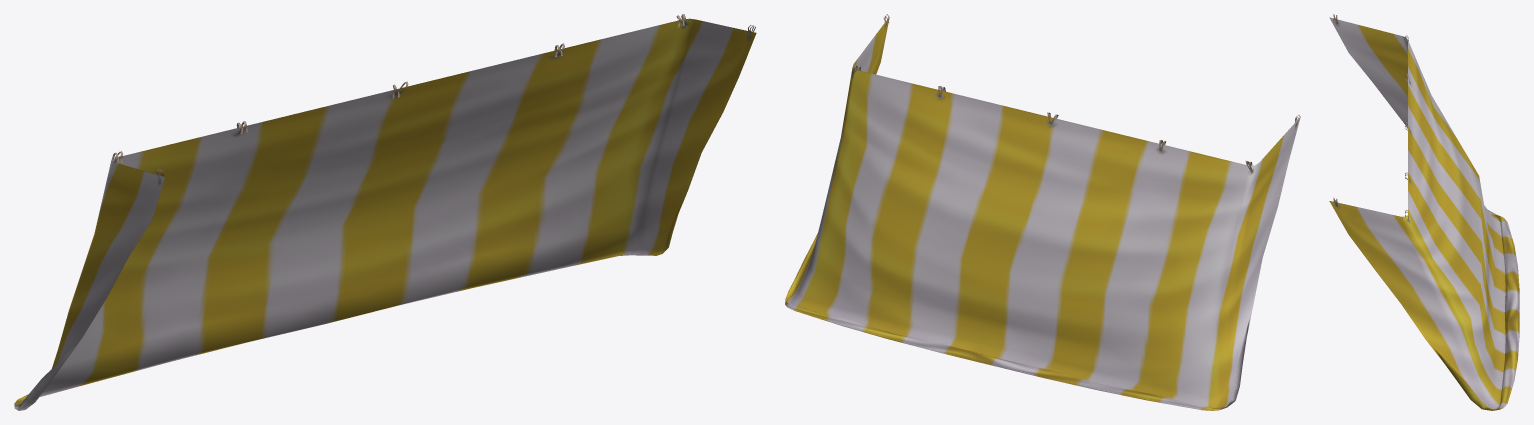
File: jsf_BackSide_s04_c03_t02.fbx
The picture shows the model from 3 angles, left to right: view 1: azimuth 30°, elevation 25°; view 2: azimuth 150°, elevation 25°; view 3: azimuth 270°, elevation 25°; orthographic projection. The views are drawn at different scales.
Parts seen in each view (by area): view 1: jsf_BackSide_s04_c03_t02; view 2: jsf_BackSide_s04_c03_t02; view 3: jsf_BackSide_s04_c03_t02.
Part boxes in pixels (<box>): jsf_BackSide_s04_c03_t02: <box>14,14,756,410</box>; jsf_BackSide_s04_c03_t02: <box>785,14,1300,410</box>; jsf_BackSide_s04_c03_t02: <box>1329,14,1519,410</box>.
Size of the model in its own units: 425 by 205 by 171.
